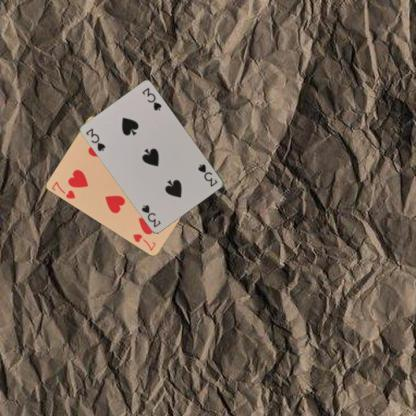3s: (195, 161, 219, 188), (83, 126, 107, 152)
7h: (49, 178, 77, 200)
